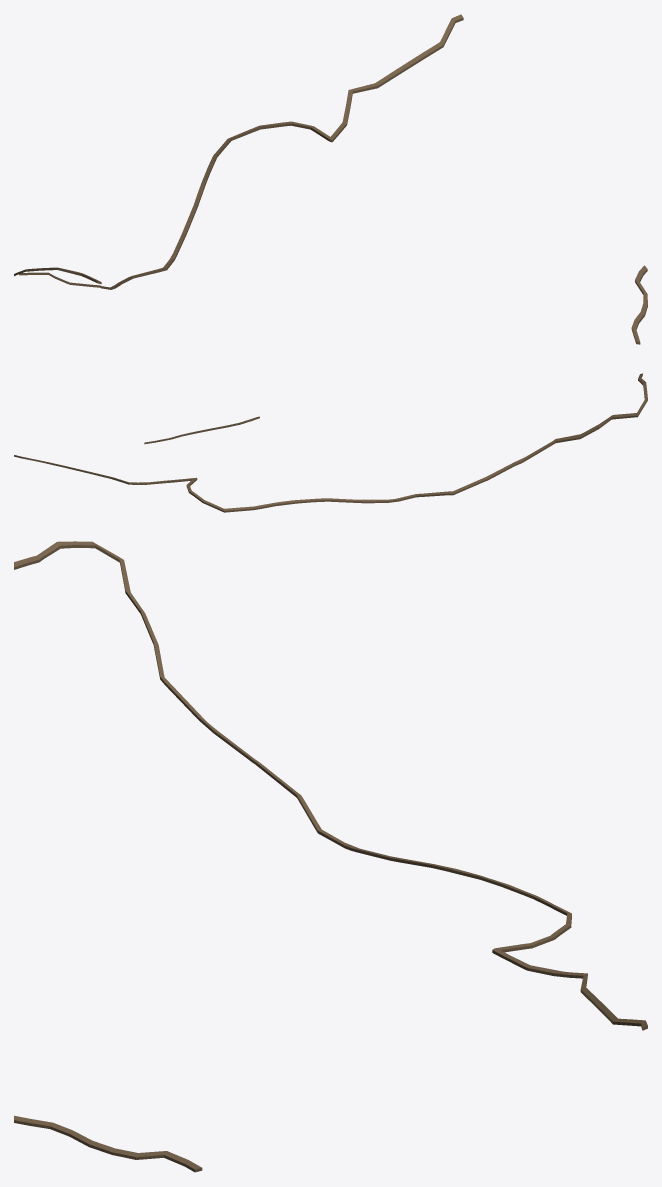
The picture shows the model from 3 angles, top to bottom: view 1: azimuth 30°, elevation 25°; view 2: azimuth 150°, elevation 25°; view 3: azimuth 270°, elevation 25°; orthographic projection. The views are drawn at different scales.
Bounding box in the file's own units: 207 × 61.16 × 141.
